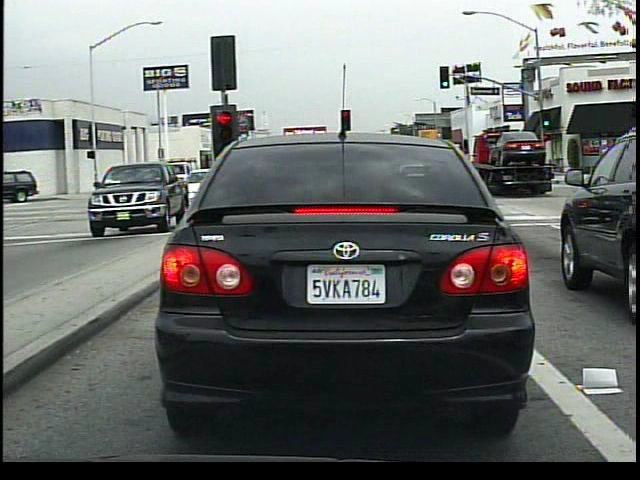person: (175, 170, 197, 195)
